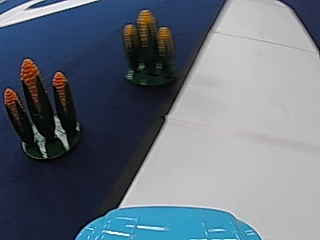corn: (7, 59, 83, 160), (121, 7, 177, 88)
